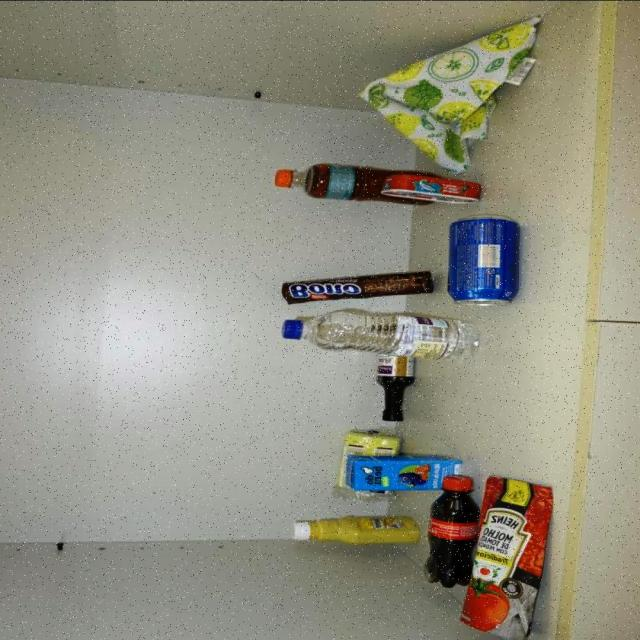Cloth: (362, 16, 542, 171)
CoconutWater: (344, 454, 463, 490)
Coke: (427, 475, 481, 588)
Cookies: (281, 269, 437, 303)
EnglishSauce: (376, 354, 414, 421)
IceTea: (276, 164, 440, 205)
Mustard: (293, 515, 421, 545)
Sponge: (332, 430, 403, 499)
TomatoSauce: (463, 476, 555, 638)
Tonic: (448, 215, 523, 302)
TunaCan: (381, 173, 482, 203)
Water: (283, 311, 483, 359)
